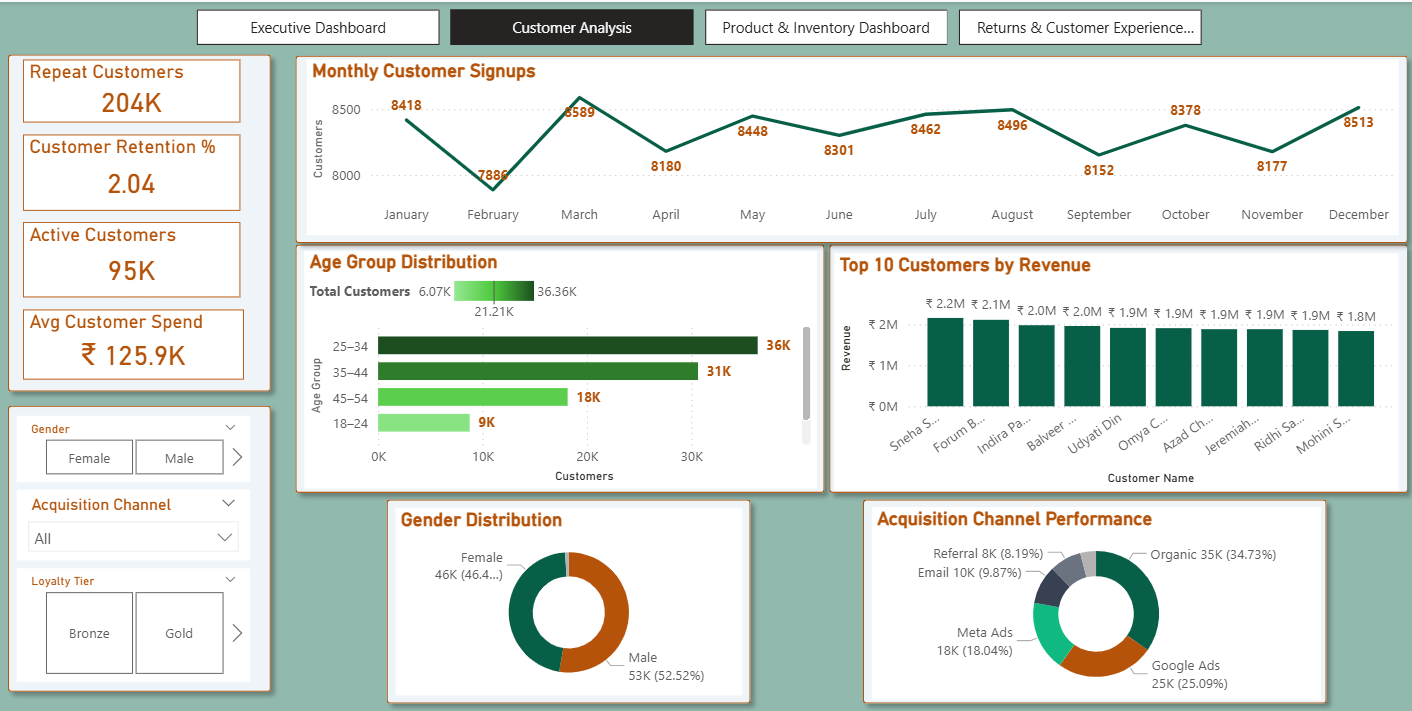

The page's visual inventory and layout, read from the dashboard file:
{"tool":"powerbi","page":{"name":"Customer Analysis","canvas":[1280,720],"ordinal":1},"visuals":[{"type":"shape","box":[771,440,436,202],"z":0},{"type":"shape","box":[341,440,346,202],"z":1000},{"type":"shape","box":[740,210,540,242],"z":2000},{"type":"shape","box":[259,210,495,242],"z":3000},{"type":"shape","box":[259,39,1021,187],"z":4000},{"type":"shape","box":[0,355,255,276],"z":5000},{"type":"shape","box":[0,38,255,322],"z":6000},{"type":"card","title":"Repeat Customers","fields":{"Values":["customers.Repeat Customers"]},"box":[22,52,196,57],"z":7000},{"type":"card","title":"Avg Customer Spend","fields":{"Values":["customers.Average Customer Spend"]},"box":[22,277,199,63],"z":8000},{"type":"card","title":"Active Customers","fields":{"Values":["customers.Active Customers"]},"box":[22,198,196,68],"z":9000},{"type":"card","title":"Customer Retention %","fields":{"Values":["customers.Customer Retention %"]},"box":[22,119,196,69],"z":10000},{"type":"donutChart","title":"Acquisition Channel Performance","fields":{"Category":["customers.acquisition_channel"],"Y":["customers.Total Customers"]},"box":[788,455,405,174],"z":11000},{"type":"areaChart","title":"Monthly Customer Signups","fields":{"Category":["customers.signup_date.Variation.Date Hierarchy.Month"],"Y":["customers.Total Customers"]},"box":[278,52,985,158],"z":12000},{"type":"columnChart","title":"Top 10 Customers by Revenue","fields":{"Category":["customers.Full Name"],"Y":["customers.Customer Revenue"]},"box":[754,226,509,214],"z":13000},{"type":"donutChart","title":"Gender Distribution","fields":{"Category":["customers.gender"],"Y":["customers.Total Customers"]},"box":[357,455,313,169],"z":14000},{"type":"clusteredBarChart","title":"Age Group Distribution","fields":{"Category":["customers.Age Group"],"Y":["customers.Total Customers"]},"box":[276,224,462,214],"z":15000},{"type":"slicer","fields":{"Values":["customers.gender"]},"box":[17,373,210,60],"z":16000},{"type":"slicer","fields":{"Values":["customers.loyalty_tier"]},"box":[17,511,210,102],"z":17000},{"type":"slicer","fields":{"Values":["customers.acquisition_channel"]},"box":[17,440,210,64],"z":18000},{"type":"pageNavigator","box":[179,7,907,32],"z":19000}]}

Visuals, with their boxes on the page's 1280x720 design canvas (x1, y1, x2, y2). These are canvas units, not pixel positions in the 1412x711 screenshot, which may show the page scaled, cropped or inside an application window:
shape: [771, 440, 1207, 642]
shape: [341, 440, 687, 642]
shape: [740, 210, 1280, 452]
shape: [259, 210, 754, 452]
shape: [259, 39, 1280, 226]
shape: [0, 355, 255, 631]
shape: [0, 38, 255, 360]
"Repeat Customers" card: [22, 52, 218, 109]
"Avg Customer Spend" card: [22, 277, 221, 340]
"Active Customers" card: [22, 198, 218, 266]
"Customer Retention %" card: [22, 119, 218, 188]
"Acquisition Channel Performance" donutChart: [788, 455, 1193, 629]
"Monthly Customer Signups" areaChart: [278, 52, 1263, 210]
"Top 10 Customers by Revenue" columnChart: [754, 226, 1263, 440]
"Gender Distribution" donutChart: [357, 455, 670, 624]
"Age Group Distribution" clusteredBarChart: [276, 224, 738, 438]
slicer - customers.gender: [17, 373, 227, 433]
slicer - customers.loyalty_tier: [17, 511, 227, 613]
slicer - customers.acquisition_channel: [17, 440, 227, 504]
pageNavigator: [179, 7, 1086, 39]
